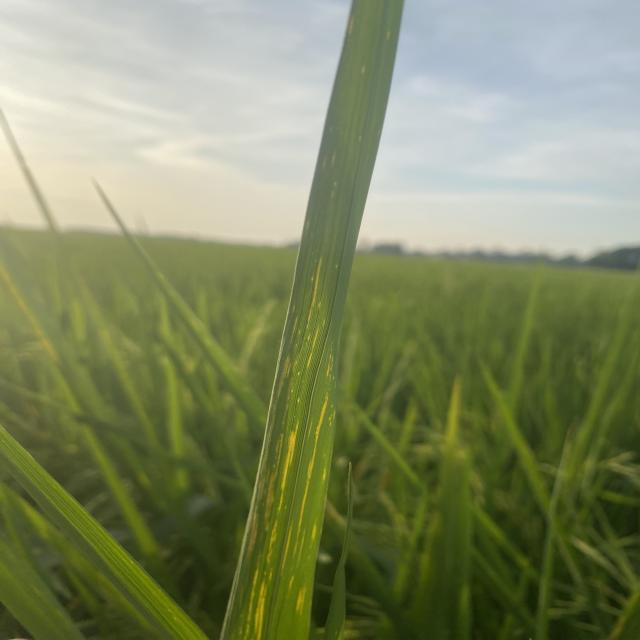Dom soc vi khuan: (296, 394, 329, 539), (277, 420, 300, 514), (254, 579, 268, 640), (265, 517, 278, 564), (295, 585, 307, 616), (311, 521, 318, 541)
